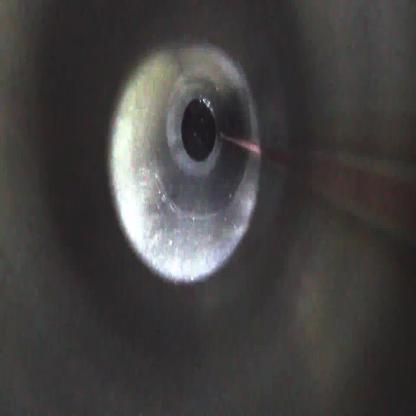NoCrack: (107, 39, 261, 283)
